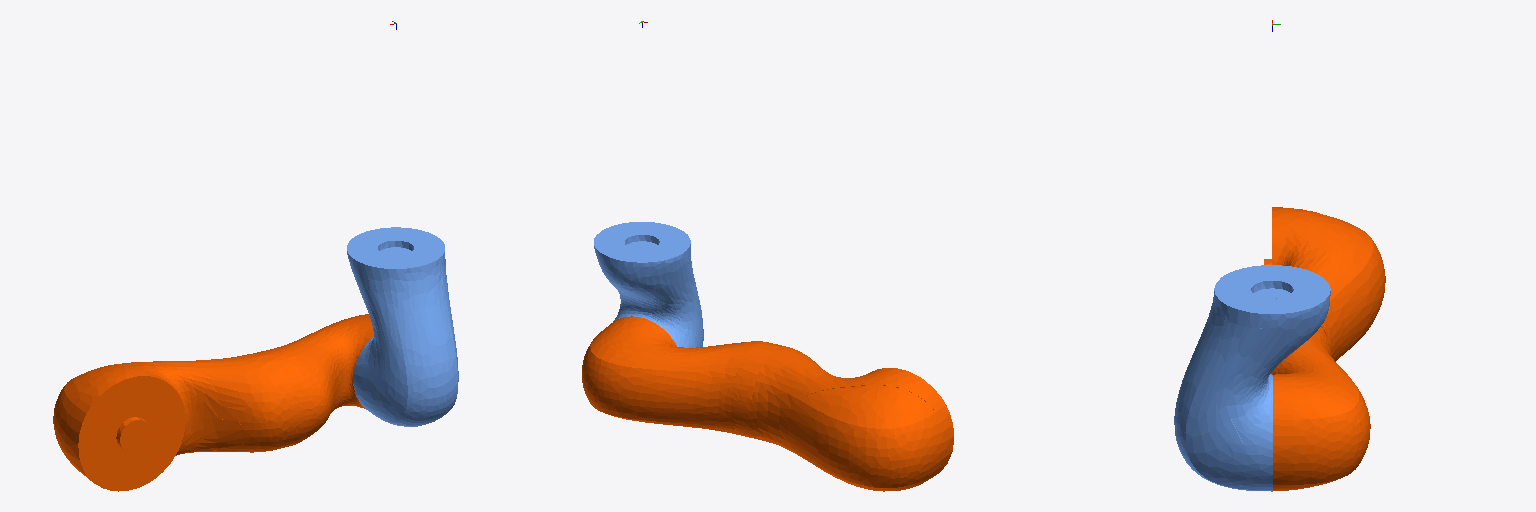
The robot description file, URDF, robot "lbr_iiwa":
<?xml version="1.0" ?>
<!-- ======================================================================= -->
<!-- | This document was autogenerated by xacro from lbr_iiwa.urdf.xacro   | -->
<!-- | Original xacro: https://github.com/rtkg/lbr_iiwa/archive/master.zip | -->
<!-- | EDITING THIS FILE BY HAND IS NOT RECOMMENDED                        | -->
<!-- | Changes ([author]):                                                 | -->
<!-- |   * Removed gazebo tags.                                            | -->
<!-- |   * Removed unused materials.                                       | -->
<!-- |   * Made mesh paths relative.                                       | -->
<!-- |   * Removed material fields from collision segments.                | -->
<!-- |   * Removed the self_collision_checking segment.                    | -->
<!-- |   * Removed transmission segments, since they didn't match the      | -->
<!-- |     convention, will have to added back later.                      | -->
<!-- ======================================================================= -->
<!--LICENSE:                                                                 -->
<!--Copyright (c) 2015, [author] & [author], AASS Research Center,  -->
<!--Orebro University, Sweden                                                -->
<!--All rights reserved.                                                     -->
<!--                                                                         -->
<!--Redistribution and use in source and binary forms, with or without       -->
<!--modification, are permitted provided that the following conditions are   -->
<!--met:                                                                     -->
<!--                                                                         -->
<!--1. Redistributions of source code must retain the above copyright notice,-->
<!--   this list of conditions and the following disclaimer.                 -->
<!--                                                                         -->
<!--2. Redistributions in binary form must reproduce the above copyright     -->
<!--   notice, this list of conditions and the following disclaimer in the   -->
<!--   documentation and/or other materials provided with the distribution.  -->
<!--                                                                         -->
<!--THIS SOFTWARE IS PROVIDED BY THE COPYRIGHT [author] "AS  -->
<!--IS" AND ANY EXPRESS OR IMPLIED WARRANTIES, INCLUDING, BUT NOT LIMITED TO,-->
<!--THE IMPLIED WARRANTIES OF MERCHANTABILITY AND FITNESS FOR A PARTICULAR   -->
<!--PURPOSE ARE DISCLAIMED. IN NO EVENT SHALL THE COPYRIGHT [author]        -->
<!--CONTRIBUTORS BE LIABLE FOR ANY DIRECT, INDIRECT, INCIDENTAL, SPECIAL,    -->
<!--EXEMPLARY, OR CONSEQUENTIAL DAMAGES (INCLUDING, BUT NOT LIMITED TO,      -->
<!--PROCUREMENT OF SUBSTITUTE GOODS OR SERVICES; LOSS OF USE, DATA, OR       -->
<!--PROFITS; OR BUSINESS INTERRUPTION) HOWEVER CAUSED AND ON ANY THEORY OF   -->
<!--LIABILITY, WHETHER IN CONTRACT, STRICT LIABILITY, OR TORT (INCLUDING     -->
<!--NEGLIGENCE OR OTHERWISE) ARISING IN ANY WAY OUT OF THE USE OF THIS       -->
<!--SOFTWARE, EVEN IF ADVISED OF THE POSSIBILITY OF SUCH DAMAGE.             -->
<robot name="lbr_iiwa" xmlns:xacro="http://www.ros.org/wiki/xacro">
  <!-- Import Rviz colors -->
  <material name="Grey">
    <color rgba="0.2 0.2 0.2 0.6"/>
  </material>
  <material name="Orange">
    <color rgba="1.0 0.423529411765 0.0392156862745 0.6"/>
  </material>
  <material name="Blue">
    <color rgba="0.5 0.7 1.0 0.6"/>
  </material>
  <material name="White">
    <color rgba="0.9 0.85 0.9 1.0"/>
    <diffuse>0.9 0.9 0.9 1</diffuse>
    <specular>0.1 0.1 0.1 1</specular>
  </material>
  <material name="marker_red">
    <color rgba="1.0 0.0 0.0 1.0"/>
  </material>
  <material name="marker_green">
    <color rgba="0.0 1.0 0.0 1.0"/>
  </material>
  <material name="marker_blue">
    <color rgba="0.0 0.0 1.0 1.0"/>
  </material>
  <!--Import the lbr iiwa macro -->
  <!--Import Transmissions -->
  <!--Include Utilities -->
  <!--The following macros are adapted from the LWR 4 definitions of the RCPRG - https://github.com/RCPRG-ros-pkg/lwr_robot -->
  <!--Little helper macros to define the inertia matrix needed for links.-->
  <!--Cuboid-->
  <!--Cylinder: length is along the y-axis! -->
  <!--lbr-->
  <link name="lbr_iiwa_link_0">
    <inertial>
      <origin rpy="0 0 0" xyz="-0.1 0 0.07"/>
      <!--Increase mass from 5 Kg original to provide a stable base to carry the
          arm.-->
      <mass value="0.0"/>
      <inertia ixx="0.05" ixy="0" ixz="0" iyy="0.06" iyz="0" izz="0.03"/>
    </inertial>
    <visual>
      <origin rpy="0 0 0" xyz="0 0 0"/>
      <geometry>
        <mesh filename="meshes/link_0.obj"/>
      </geometry>
      <material name="Grey"/>
    </visual>
    <collision>
      <origin rpy="0 0 0" xyz="0 0 0"/>
      <geometry>
        <mesh filename="meshes/link_0.stl"/>
      </geometry>
    </collision>
  </link>
  <!-- joint between link_0 and link_1 -->
  <joint name="lbr_iiwa_joint_1" type="revolute">
    <parent link="lbr_iiwa_link_0"/>
    <child link="lbr_iiwa_link_1"/>
    <origin rpy="0 0 0" xyz="0 0 0.1575"/>
    <axis xyz="0 0 1"/>
    <limit effort="300" lower="-2.96705972839" upper="2.96705972839" velocity="10"/>
    <dynamics damping="0.5"/>
  </joint>
  <link name="lbr_iiwa_link_1">
    <inertial>
      <origin rpy="0 0 0" xyz="0 -0.03 0.12"/>
      <mass value="4"/>
      <inertia ixx="0.1" ixy="0" ixz="0" iyy="0.09" iyz="0" izz="0.02"/>
    </inertial>
    <visual>
      <origin rpy="0 0 0" xyz="0 0 0"/>
      <geometry>
        <mesh filename="meshes/link_1.obj"/>
      </geometry>
      <material name="Blue"/>
    </visual>
    <collision>
      <origin rpy="0 0 0" xyz="0 0 0"/>
      <geometry>
        <mesh filename="meshes/link_1.stl"/>
      </geometry>
    </collision>
  </link>
  <!-- joint between link_1 and link_2 -->
  <joint name="lbr_iiwa_joint_23" type="revolute">
    <parent link="lbr_iiwa_link_1"/>
    <child link="lbr_iiwa_link_23"/>
    <origin rpy="-1.57079632679   0 0" xyz="0 0 0.2025"/>
    <axis xyz="0 0 1"/>
    <limit effort="300" lower="-2.09439510239" upper="2.09439510239" velocity="10"/>
    <dynamics damping="0.5"/>
  </joint>
  <link name="lbr_iiwa_link_23">
    <inertial>
      <origin rpy="0 0 0" xyz="0.0003 0.059 0.042"/>
      <mass value="4"/>
      <inertia ixx="0.05" ixy="0" ixz="0" iyy="0.018" iyz="0" izz="0.044"/>
    </inertial>
    <visual>
      <origin rpy="0 0 0" xyz="0 0 0"/>
      <geometry>
        <mesh filename="meshes/link_23.stl"/>
      </geometry>
      <material name="Orange"/>
    </visual>
    <collision>
      <origin rpy="0 0 0" xyz="0 0 0"/>
      <geometry>
        <mesh filename="meshes/link_23.stl"/>
      </geometry>
    </collision>
  </link>
  <!-- joint between link_3 and link_4 -->
  <joint name="lbr_iiwa_joint_4" type="revolute">
    <parent link="lbr_iiwa_link_23"/>
    <child link="lbr_iiwa_link_4"/>
    <origin rpy="3.14159265359 0 0" xyz="0.42 0 0"/>
    <axis xyz="0 0 1"/>
    <limit effort="300" lower="-2.09439510239" upper="2.09439510239" velocity="10"/>
    <dynamics damping="0.5"/>
  </joint>
  <link name="lbr_iiwa_link_4">
    <inertial>
      <origin rpy="0 0 0" xyz="0 0.067 0.034"/>
      <mass value="2.7"/>
      <inertia ixx="0.03" ixy="0" ixz="0" iyy="0.01" iyz="0" izz="0.029"/>
    </inertial>
    <visual>
      <origin rpy="0 0 0" xyz="0 0 0"/>
      <geometry>
        <mesh filename="meshes/link_4.stl"/>
      </geometry>
      <material name="Blue"/>
    </visual>
    <collision>
      <origin rpy="0 0 0" xyz="0 0 0"/>
      <geometry>
        <mesh filename="meshes/link_4.stl"/>
      </geometry>
    </collision>
  </link>
  <!-- joint between link_4 and link_5 -->
  <joint name="lbr_iiwa_joint_5" type="revolute">
    <parent link="lbr_iiwa_link_4"/>
    <child link="lbr_iiwa_link_5"/>
    <origin rpy="-1.57079632679 3.14159265359 0" xyz="0 0.1845 0"/>
    <axis xyz="0 0 1"/>
    <limit effort="300" lower="-2.96705972839" upper="2.96705972839" velocity="10"/>
    <dynamics damping="0.5"/>
  </joint>
  <link name="lbr_iiwa_link_5">
    <inertial>
      <origin rpy="0 0 0" xyz="0.0001 0.021 0.076"/>
      <mass value="1.7"/>
      <inertia ixx="0.02" ixy="0" ixz="0" iyy="0.018" iyz="0" izz="0.005"/>
    </inertial>
    <visual>
      <origin rpy="0 0 0" xyz="0 0 0"/>
      <geometry>
        <mesh filename="meshes/link_5.stl"/>
      </geometry>
      <material name="Blue"/>
    </visual>
    <collision>
      <origin rpy="0 0 0" xyz="0 0 0"/>
      <geometry>
        <mesh filename="meshes/link_5.stl"/>
      </geometry>
    </collision>
  </link>
  <!-- joint between link_5 and link_6 -->
  <joint name="lbr_iiwa_joint_6" type="revolute">
    <parent link="lbr_iiwa_link_5"/>
    <child link="lbr_iiwa_link_6"/>
    <origin rpy="1.57079632679 0 0" xyz="0 0 0.2155"/>
    <axis xyz="0 0 1"/>
    <limit effort="300" lower="-2.09439510239" upper="2.09439510239" velocity="10"/>
    <dynamics damping="0.5"/>
  </joint>
  <link name="lbr_iiwa_link_6">
    <inertial>
      <origin rpy="0 0 0" xyz="0 0.0006 0.0004"/>
      <mass value="1.8"/>
      <inertia ixx="0.005" ixy="0" ixz="0" iyy="0.0036" iyz="0" izz="0.0047"/>
    </inertial>
    <visual>
      <origin rpy="0 0 0" xyz="0 0 0"/>
      <geometry>
        <mesh filename="meshes/link_6.obj"/>
      </geometry>
      <material name="Orange"/>
    </visual>
    <collision>
      <origin rpy="0 0 0" xyz="0 0 0"/>
      <geometry>
        <mesh filename="meshes/link_6.stl"/>
      </geometry>
    </collision>
  </link>
  <!-- joint between link_6 and link_7 -->
  <joint name="lbr_iiwa_joint_7" type="revolute">
    <parent link="lbr_iiwa_link_6"/>
    <child link="lbr_iiwa_link_7"/>
    <origin rpy="-1.57079632679 3.14159265359 0" xyz="0 0.081 0"/>
    <axis xyz="0 0 1"/>
    <limit effort="300" lower="-3.05432619099" upper="3.05432619099" velocity="10"/>
    <dynamics damping="0.5"/>
  </joint>
  <link name="lbr_iiwa_link_7">
    <inertial>
      <origin rpy="0 0 0" xyz="0 0 0.02"/>
      <mass value="0.3"/>
      <inertia ixx="0.001" ixy="0" ixz="0" iyy="0.001" iyz="0" izz="0.001"/>
    </inertial>
    <visual>
      <origin rpy="0 0 0" xyz="0 0 0"/>
      <geometry>
        <mesh filename="meshes/link_7.obj"/>
      </geometry>
      <material name="Grey"/>
    </visual>
    <collision>
      <origin rpy="0 0 0" xyz="0 0 0"/>
      <geometry>
        <mesh filename="meshes/link_7.stl"/>
      </geometry>
    </collision>
  </link>

  <!-- joint between link_7 and world -->
  <joint name="world_joint" type="fixed">
    <parent link="lbr_iiwa_link_7"/>
    <child link="world_link"/>
    <origin rpy="0 3.14159265359 0" xyz="0 0 0.045"/>
    <axis xyz="0 0 1"/>
  </joint>
  <link name="world_link">
    <inertial>
      <origin rpy="0 0 0" xyz="0 0 0"/>
      <mass value="0.001"/>
      <inertia ixx="0.0001" ixy="0" ixz="0" iyy="0.0001" iyz="0" izz="0.0001"/>
    </inertial>
    <visual>
      <origin rpy="0 0 0" xyz="0 0 0"/>
      <geometry>
        <box size="0.002 0.002 0.002"/>
      </geometry>
      <material name="Orange"/>
    </visual>
  </link>

  <joint name="tcp_joint" type="fixed">
    <parent link="world_link"/>
    <child link="tcp_link"/>
    <origin rpy="0 0 0" xyz="0 0 0"/>
    <axis xyz="0 0 1"/>
  </joint>
  <link name="tcp_link">
    <inertial>
      <origin rpy="0 0 0" xyz="0 0 0"/>
      <mass value="0.001"/>
      <inertia ixx="0.0001" ixy="0" ixz="0" iyy="0.0001" iyz="0" izz="0.0001"/>
    </inertial>
    <visual>
      <origin rpy="0 0 0" xyz="0 0 0"/>
      <geometry>
        <box size="0.002 0.002 0.002"/>
      </geometry>
      <material name="Orange"/>
    </visual>
  </link>



  <link name="marker_origin">
    <visual>
      <geometry>
        <box size="0.002 0.002 0.002"/>
      </geometry>
      <origin xyz="0 0 0" rpy="0 0 0"/>
      <material name="White"/>
    </visual>
    <inertial>
      <origin xyz="0 0 0" rpy="0 0 0"/>
      <mass value="0.001"/>
      <inertia ixx="0.00001" ixy="0" ixz="0"
        iyy="0.00001" iyz="0"
        izz="0.00001"/>
    </inertial>
  </link>

  <link name="marker_x">
    <visual>
      <geometry>
        <box size="0.01 0.001 0.001"/>
      </geometry>
      <origin xyz="0 0 0" rpy="0 0 0"/>
      <material name="marker_red"/>
    </visual>
    <inertial>
      <origin xyz="0 0 0" rpy="0 0 0"/>
      <mass value="0.001"/>
      <inertia ixx="0.00001" ixy="0" ixz="0"
        iyy="0.00001" iyz="0"
        izz="0.00001"/>
    </inertial>
  </link>
  <link name="marker_y">
    <visual>
      <geometry>
        <box size="0.001 0.01 0.001"/>
      </geometry>
      <origin xyz="0 0 0" rpy="0 0 0"/>
      <material name="marker_green"/>
    </visual>
    <inertial>
      <origin xyz="0 0 0" rpy="0 0 0"/>
      <mass value="0.001"/>
      <inertia ixx="0.00001" ixy="0" ixz="0"
        iyy="0.00001" iyz="0"
        izz="0.00001"/>
    </inertial>
  </link>
  <link name="marker_z">
    <visual>
      <geometry>
        <box size="0.001 0.001 0.01"/>
      </geometry>
      <origin xyz="0 0 0" rpy="0 0 0"/>
      <material name="marker_blue"/>
    </visual>
    <inertial>
      <origin xyz="0 0 0" rpy="0 0 0"/>
      <mass value="0.001"/>
      <inertia ixx="0.00001" ixy="0" ixz="0"
        iyy="0.00001" iyz="0"
        izz="0.00001"/>
    </inertial>
  </link>

  <joint name="connector_origin" type="fixed">
    <parent link="tcp_link"/>
    <child  link="marker_origin"/>
    <origin xyz="0.0 0.0 0" rpy="0 0 0"/>
  </joint>
  <joint name="marker_origin_x" type="fixed">
    <parent link="marker_origin"/>
    <child  link="marker_x"/>
    <origin xyz="0.005 0.0 0.0" rpy="0 0 0"/>
  </joint>
  <joint name="marker_origin_y" type="fixed">
    <parent link="marker_origin"/>
    <child  link="marker_y"/>
    <origin xyz="0.0 0.005 0.0" rpy="0 0 0"/>
  </joint>
  <joint name="marker_origin_z" type="fixed">
    <parent link="marker_origin"/>
    <child  link="marker_z"/>
    <origin xyz="0.0 0.0 0.005" rpy="0 0 0"/>
  </joint>



</robot>

--- Render facts (derived) ---
3 views of the same robot in one strip: view 1: azimuth 30°, elevation 25°; view 2: azimuth 150°, elevation 25°; view 3: azimuth 270°, elevation 25° (orthographic).
Robot: lbr_iiwa — 13 links, 12 joints (6 revolute, 6 fixed); root link lbr_iiwa_link_0; default pose: all joints at 0.
Visible links, largest first — view 1: lbr_iiwa_link_23, lbr_iiwa_link_4; view 2: lbr_iiwa_link_23, lbr_iiwa_link_4; view 3: lbr_iiwa_link_4, lbr_iiwa_link_23.
Link boxes in pixels (left/top/right/bottom): lbr_iiwa_link_23: left=53, top=314, right=373, bottom=491; lbr_iiwa_link_4: left=347, top=227, right=458, bottom=426; lbr_iiwa_link_23: left=582, top=316, right=953, bottom=491; lbr_iiwa_link_4: left=594, top=222, right=703, bottom=347; lbr_iiwa_link_4: left=1174, top=265, right=1330, bottom=491; lbr_iiwa_link_23: left=1264, top=207, right=1385, bottom=490.
Bounding box of the posed robot: 0.5737 × 0.2466 × 0.6121 m (x, y, z).
2 mesh visuals loaded from 7 distinct referenced files (2 binary STL); not drawn: 5 (reference not matched to a file when rendering).